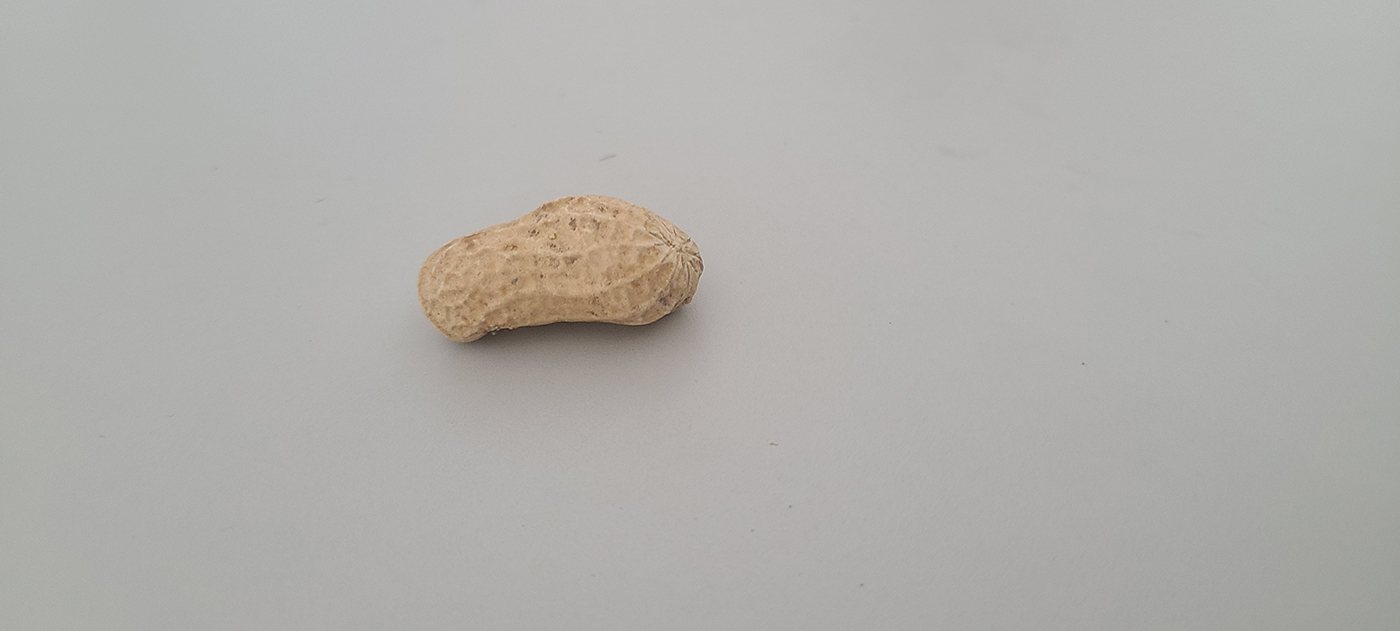h: (419, 192, 704, 346)
